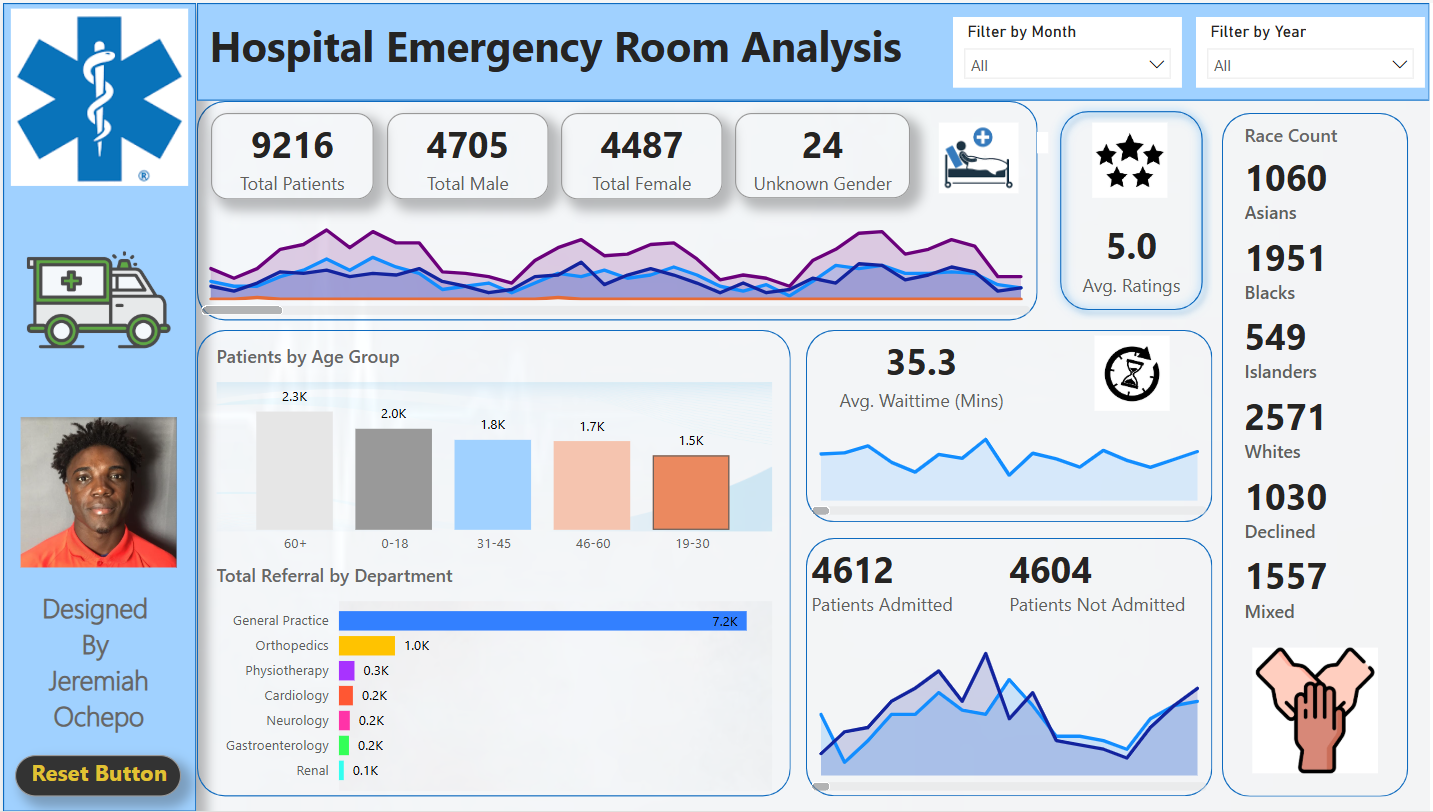

The dashboard page shown, as its layout file describes it:
{"tool":"powerbi","page":{"name":"Emergency Room Visit","canvas":[1280,720],"ordinal":0},"visuals":[{"type":"shape","box":[941.5,87.3,145.1,195.3],"z":0},{"type":"shape","box":[181.6,87.3,749.1,195.6],"z":1000},{"type":"shape","box":[9.3,0,172.3,720.6],"z":2000},{"type":"image","box":[8.9,0,172.9,168.4],"z":3000},{"type":"shape","box":[181.5,0,1098.5,87.1],"z":4000},{"type":"textbox","box":[181.5,0,639.1,87.1],"z":5000},{"type":"card","fields":{"Values":["Hospital_ER_Cleaned.No of Patience"]},"box":[193.8,97.8,144.9,76.8],"z":6000},{"type":"slicer","fields":{"Values":["Hospital_ER_Cleaned.Patient Admission Date.Variation.Date Hierarchy.Month"]},"box":[855.7,12.2,204.3,62.9],"z":7000},{"type":"slicer","fields":{"Values":["Hospital_ER_Cleaned.Patient Admission Date.Variation.Date Hierarchy.Year"]},"box":[1072.2,12.2,204.3,62.9],"z":8000},{"type":"card","fields":{"Values":["Hospital_ER_Cleaned.Total Male"]},"box":[351,97.8,144,76.8],"z":9000},{"type":"card","fields":{"Values":["Hospital_ER_Cleaned.Total Female"]},"box":[506.4,97.8,144,76.8],"z":10000},{"type":"textbox","box":[929.9,114.8,9.3,18.5],"z":11000},{"type":"shape","box":[724.4,291.3,362.2,171.3],"z":12000},{"type":"areaChart","fields":{"Category":["Hospital_ER_Cleaned.Patient Admission Date.Variation.Date Hierarchy.Month","Hospital_ER_Cleaned.Patient Admission Date.Variation.Date Hierarchy.Day"],"Y":["Hospital_ER_Cleaned.Avg. Waittime"]},"box":[724.4,360,362.2,101.5],"z":13000},{"type":"card","fields":{"Values":["Hospital_ER_Cleaned.Avg. Waittime"]},"box":[724.7,291.6,206.1,76.8],"z":14000},{"type":"card","fields":{"Values":["Hospital_ER_Cleaned.Avg. Satisfaction Score"]},"box":[941.5,180,145.1,93.8],"z":15000},{"type":"shape","box":[724.4,476.7,362.2,230.2],"z":16000},{"type":"shape","box":[1094.9,97.8,165.9,609.4],"z":17000},{"type":"multiRowCard","title":"Race Count","fields":{"Values":["Hospital_ER_Cleaned.Asians","Hospital_ER_Cleaned.Blacks","Hospital_ER_Cleaned.Islanders","Hospital_ER_Cleaned.Whites","Hospital_ER_Cleaned.Declined","Hospital_ER_Cleaned.Mixed"]},"box":[1094.9,101.3,165.9,455.8],"z":18000},{"type":"image","box":[969.2,291.6,90.8,76.8],"z":19000},{"type":"image","box":[969.8,101.5,87.3,77.5],"z":20000},{"type":"image","box":[19.6,168,148.4,192],"z":21000},{"type":"image","box":[19.6,360,149.5,151.6],"z":22000},{"type":"textbox","box":[19.6,517.1,149.5,152.7],"z":23000},{"type":"image","box":[1094.9,569.3,165.9,122.2],"z":24000},{"type":"multiRowCard","fields":{"Values":["Hospital_ER_Cleaned.Patients Admitted","Hospital_ER_Cleaned.Patients Not Admitted"]},"box":[724.4,476.7,362.2,80.7],"z":25000},{"type":"areaChart","fields":{"Category":["Hospital_ER_Cleaned.Patient Admission Date.Variation.Date Hierarchy.Day","Hospital_ER_Cleaned.Patient Admission Date.Variation.Date Hierarchy.Month"],"Y":["Hospital_ER_Cleaned.Patients Admitted","Hospital_ER_Cleaned.Patients Not Admitted"]},"box":[724.4,557.5,362.2,149.5],"z":26000},{"type":"card","fields":{"Values":["Hospital_ER_Cleaned.Total NC"]},"box":[661.1,98.2,156,76.4],"z":27000},{"type":"areaChart","fields":{"Category":["Hospital_ER_Cleaned.Patient Admission Date.Variation.Date Hierarchy.Day","Hospital_ER_Cleaned.Patient Admission Date.Variation.Date Hierarchy.Month"],"Y":["Hospital_ER_Cleaned.Total Male","Hospital_ER_Cleaned.Total Female","Hospital_ER_Cleaned.Total NC","Hospital_ER_Cleaned.Total Patients"]},"box":[181.1,163.6,748.4,118.9],"z":28000},{"type":"image","box":[828,101.5,101.5,73.1],"z":29000},{"type":"shape","box":[181.6,291.6,529.1,415.6],"z":29001},{"type":"clusteredColumnChart","title":"Patients by Age Group","fields":{"Category":["Hospital_ER_Cleaned.Age Group"],"Y":["Hospital_ER_Cleaned.Total Patients"]},"box":[193.8,303.8,504.7,195.6],"z":29002},{"type":"barChart","title":"Total Referral by Department","fields":{"Category":["Hospital_ER_Cleaned.Department Referral"],"Y":["Hospital_ER_Cleaned.Total Patients"]},"box":[193.8,499.4,504.7,207.8],"z":29003},{"type":"actionButton","title":"Reset Button","box":[19.6,669.8,148.4,37.1],"z":29004}]}

Visuals, with their boxes in screenshot pixels (x1, y1, x2, y2), scaled from the page's 1280x720 canvas onto the 1433x812 screenshot:
shape: bbox(1054, 98, 1216, 319)
shape: bbox(203, 98, 1042, 319)
shape: bbox(10, 0, 203, 811)
image: bbox(10, 0, 204, 190)
shape: bbox(203, 0, 1432, 98)
textbox: bbox(203, 0, 919, 98)
card - Hospital_ER_Cleaned.No of Patience: bbox(217, 110, 379, 197)
slicer - Hospital_ER_Cleaned.Patient Admission Date.Variation.Date Hierarchy.Month: bbox(958, 14, 1187, 85)
slicer - Hospital_ER_Cleaned.Patient Admission Date.Variation.Date Hierarchy.Year: bbox(1200, 14, 1429, 85)
card - Hospital_ER_Cleaned.Total Male: bbox(393, 110, 554, 197)
card - Hospital_ER_Cleaned.Total Female: bbox(567, 110, 728, 197)
textbox: bbox(1041, 129, 1051, 150)
shape: bbox(811, 329, 1216, 522)
areaChart - Hospital_ER_Cleaned.Patient Admission Date.Variation.Date Hierarchy.Month x Hospital_ER_Cleaned.Patient Admission Date.Variation.Date Hierarchy.Day: bbox(811, 406, 1216, 520)
card - Hospital_ER_Cleaned.Avg. Waittime: bbox(811, 329, 1042, 415)
card - Hospital_ER_Cleaned.Avg. Satisfaction Score: bbox(1054, 203, 1216, 309)
shape: bbox(811, 538, 1216, 797)
shape: bbox(1226, 110, 1412, 798)
"Race Count" multiRowCard: bbox(1226, 114, 1412, 628)
image: bbox(1085, 329, 1187, 415)
image: bbox(1086, 114, 1183, 202)
image: bbox(22, 189, 188, 406)
image: bbox(22, 406, 189, 577)
textbox: bbox(22, 583, 189, 755)
image: bbox(1226, 642, 1412, 780)
multiRowCard - Hospital_ER_Cleaned.Patients Admitted x Hospital_ER_Cleaned.Patients Not Admitted: bbox(811, 538, 1216, 629)
areaChart - Hospital_ER_Cleaned.Patient Admission Date.Variation.Date Hierarchy.Day x Hospital_ER_Cleaned.Patient Admission Date.Variation.Date Hierarchy.Month: bbox(811, 629, 1216, 797)
card - Hospital_ER_Cleaned.Total NC: bbox(740, 111, 915, 197)
areaChart - Hospital_ER_Cleaned.Patient Admission Date.Variation.Date Hierarchy.Day x Hospital_ER_Cleaned.Patient Admission Date.Variation.Date Hierarchy.Month: bbox(203, 185, 1041, 319)
image: bbox(927, 114, 1041, 197)
shape: bbox(203, 329, 796, 798)
"Patients by Age Group" clusteredColumnChart: bbox(217, 343, 782, 563)
"Total Referral by Department" barChart: bbox(217, 563, 782, 798)
"Reset Button" actionButton: bbox(22, 755, 188, 797)
